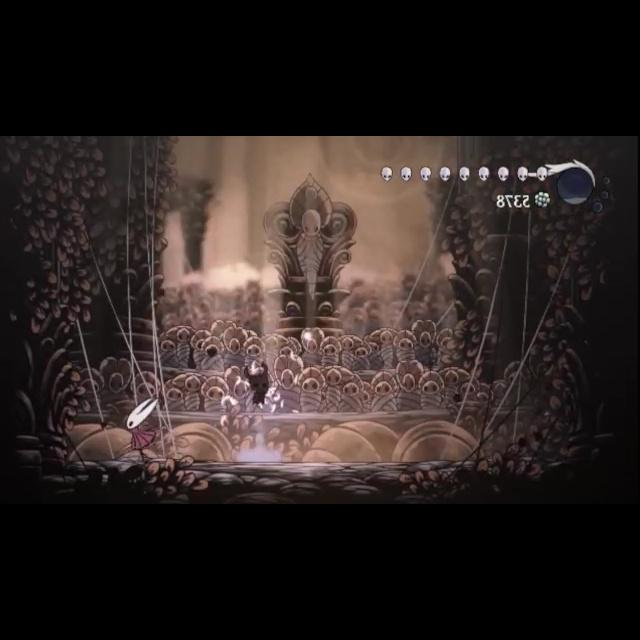Enemy: (110, 391, 168, 464)
Player: (238, 360, 274, 408)
